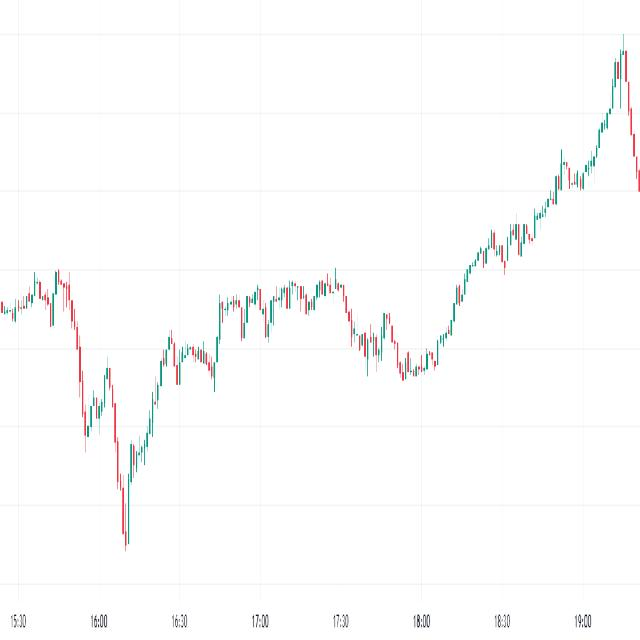rectangle: (211, 262, 357, 350)
